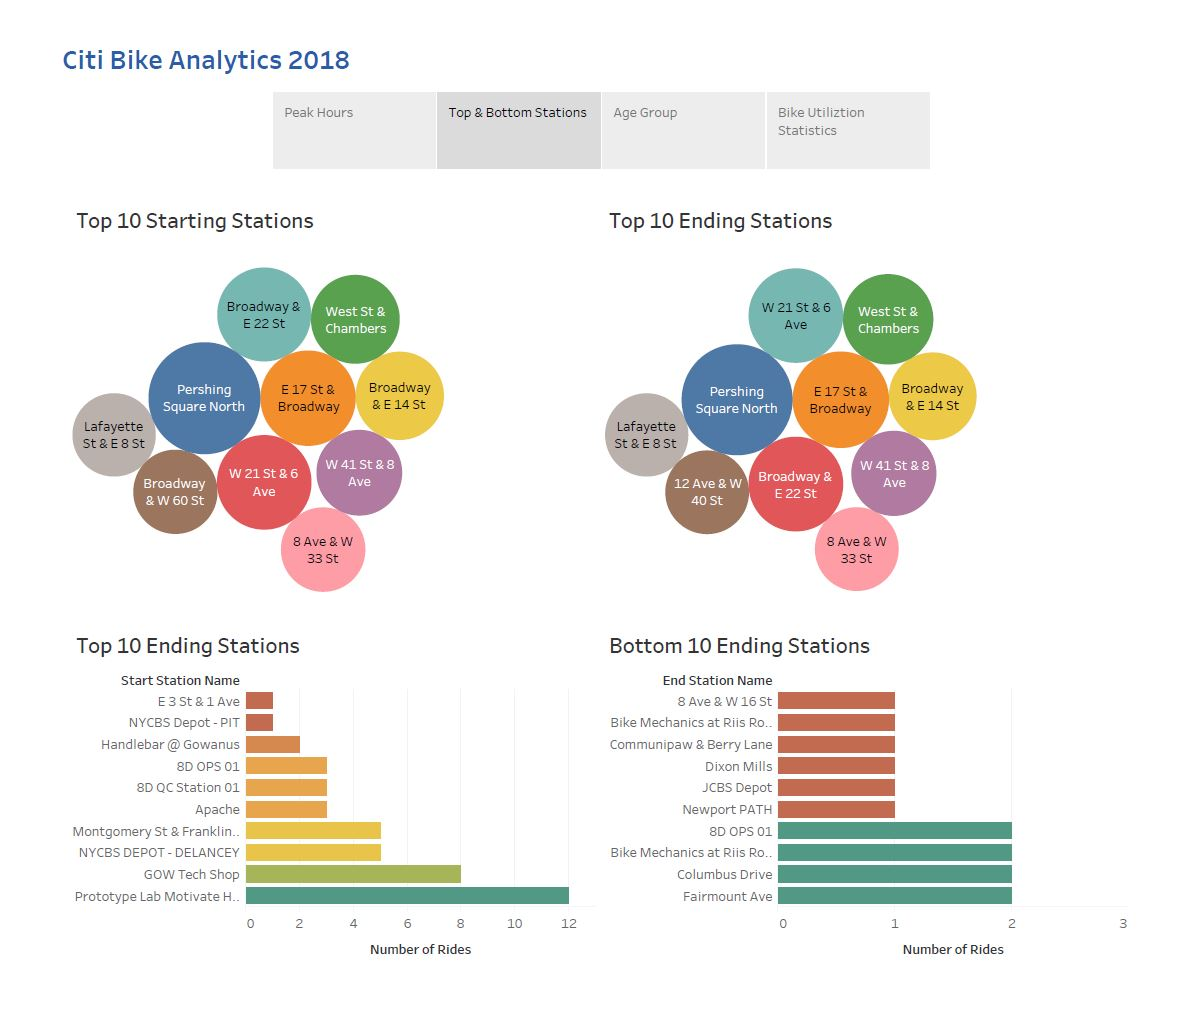

This screenshot's page, from the dashboard's own definition file:
{"tool":"tableau","page":{"name":"Top Stations","canvas":[1000,800],"ordinal":1},"visuals":[{"type":"worksheet","title":"Top Starting","mark":"Circle","box":[8,8,492,392]},{"type":"worksheet","title":"Top Ending","mark":"Circle","box":[500,8,492,392]},{"type":"worksheet","title":"Bottom Starting","mark":"Automatic","rows":["start station name"],"cols":["Calculation_2196912204150231040"],"box":[8,400,492,392]},{"type":"worksheet","title":"Bottom Ending","mark":"Automatic","rows":["end station name"],"cols":["Calculation_2196912204150231040"],"box":[500,400,492,392]}]}

Visuals, with their boxes on the page's 1000x800 design canvas (x1, y1, x2, y2). These are canvas units, not pixel positions in the 1178x1027 screenshot, which may show the page scaled, cropped or inside an application window:
"Top Starting" worksheet (Circle marks): Rect(8, 8, 500, 400)
"Top Ending" worksheet (Circle marks): Rect(500, 8, 992, 400)
"Bottom Starting" worksheet: Rect(8, 400, 500, 792)
"Bottom Ending" worksheet: Rect(500, 400, 992, 792)
